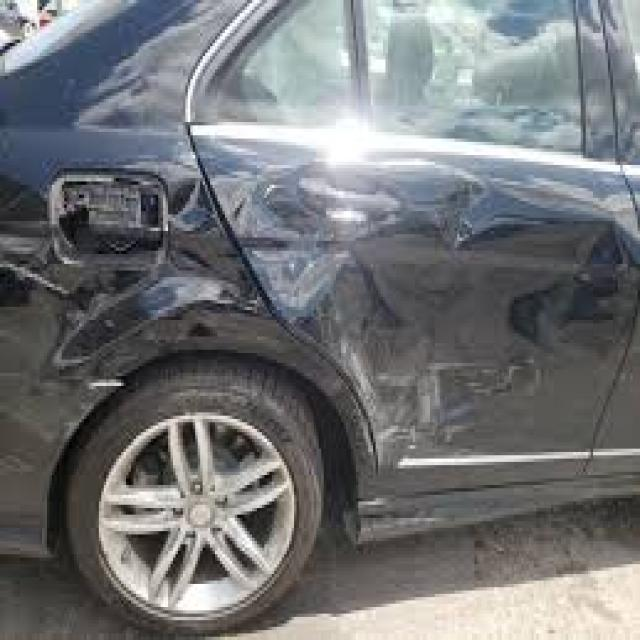damaged-door: (199, 0, 633, 483)
